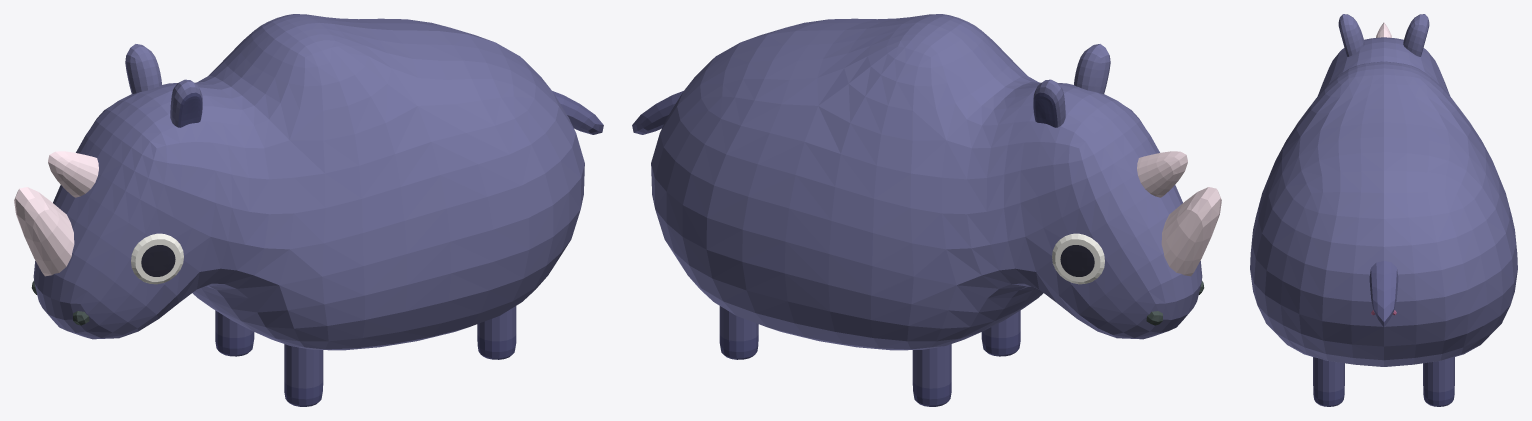
The model's file is Rhino_LOD0.fbx.
3 views of the same model, side by side, from view 1: azimuth 30°, elevation 25°; view 2: azimuth 150°, elevation 25°; view 3: azimuth 270°, elevation 25° (orthographic). The views are drawn at different scales.
Parts seen in each view (by area): view 1: Mesh; view 2: Mesh; view 3: Mesh.
Boxes of the visible parts, <box> form: Mesh: <box>14,14,603,406</box>; Mesh: <box>632,14,1221,406</box>; Mesh: <box>1250,14,1517,406</box>.
Bounding box in the file's own units: 403 × 224 × 199.
Materials: 1 (1 with a texture image).
